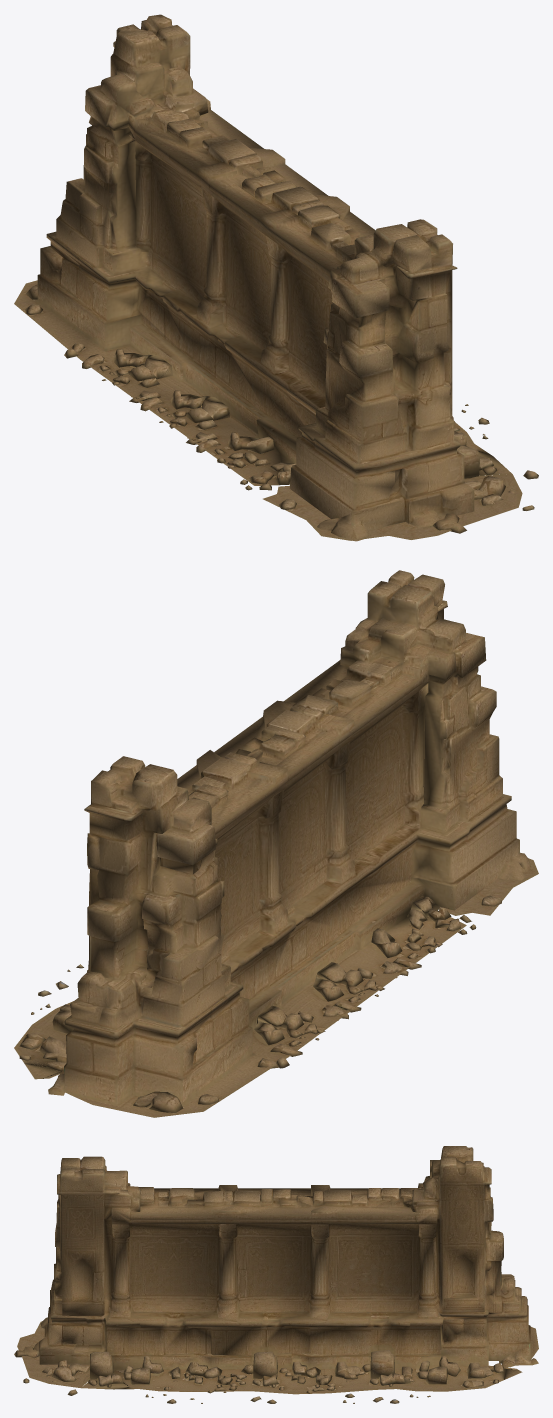
File: large+ruins.glb
The picture shows the model from 3 angles, top to bottom: view 1: azimuth 30°, elevation 25°; view 2: azimuth 150°, elevation 25°; view 3: azimuth 270°, elevation 25°; orthographic projection. The views are drawn at different scales.
Parts seen in each view (by area): view 1: tripo_node_5704aaa8-4736-444b-9d7b-98d1f9ab2e06; view 2: tripo_node_5704aaa8-4736-444b-9d7b-98d1f9ab2e06; view 3: tripo_node_5704aaa8-4736-444b-9d7b-98d1f9ab2e06.
Boxes of the visible parts, <box> form: tripo_node_5704aaa8-4736-444b-9d7b-98d1f9ab2e06: <box>14,14,538,541</box>; tripo_node_5704aaa8-4736-444b-9d7b-98d1f9ab2e06: <box>14,570,538,1117</box>; tripo_node_5704aaa8-4736-444b-9d7b-98d1f9ab2e06: <box>14,1146,538,1403</box>.
Bounding box in the file's own units: 0.4004 × 0.4199 × 0.998.
Materials: 1 (1 with a texture image).
